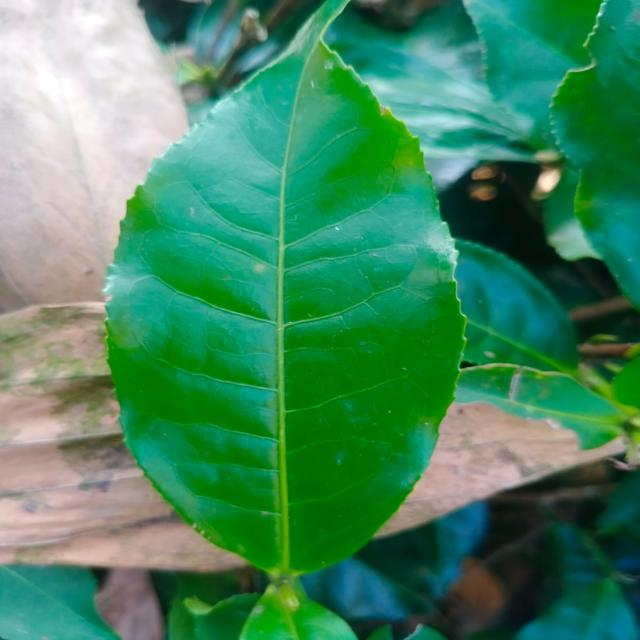Category D 7+ days, Not for Tea: (73, 0, 491, 594)
